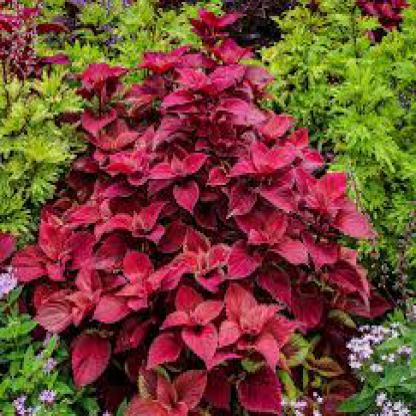Bunga Coleus: (76, 79, 304, 397)
